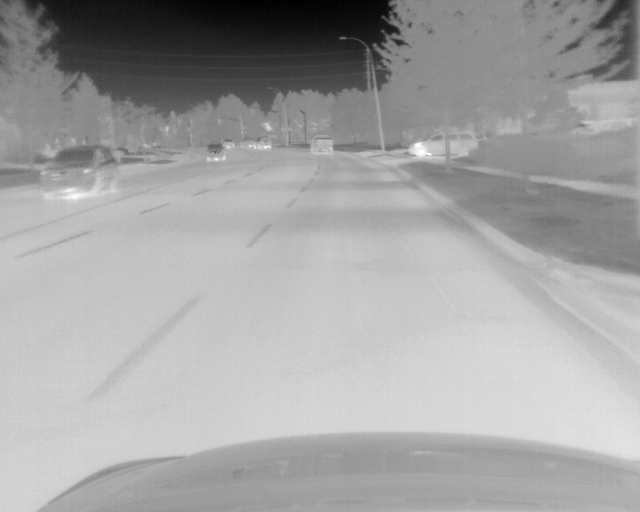car: (38, 145, 118, 200), (408, 131, 478, 158), (308, 134, 335, 156), (206, 143, 226, 161), (255, 136, 272, 150), (240, 137, 257, 149), (219, 138, 235, 150)
